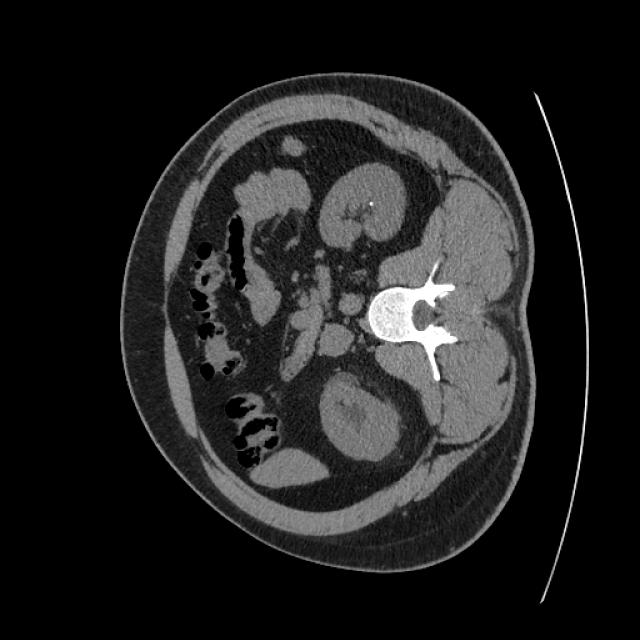kidneystone: (368, 201, 376, 206)
